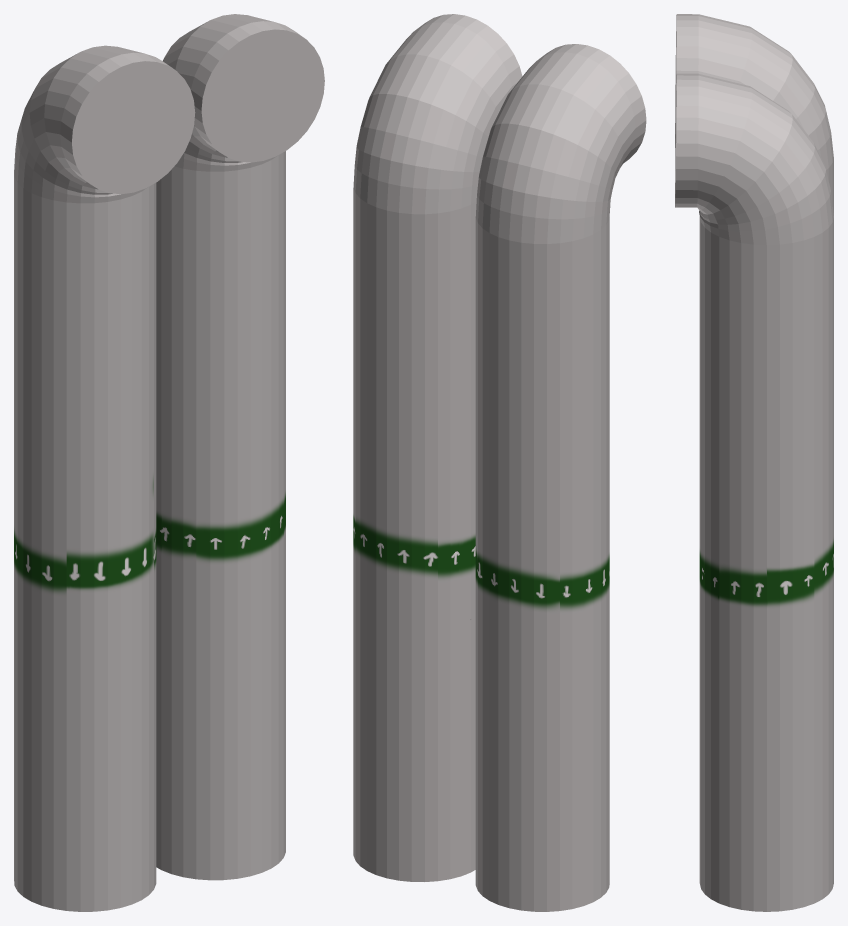
Rendered from pipe.obj.
The picture shows the model from 3 angles, left to right: view 1: azimuth 30°, elevation 25°; view 2: azimuth 150°, elevation 25°; view 3: azimuth 270°, elevation 25°; orthographic projection. The views are drawn at different scales.
Visible parts, largest first — view 1: Cylinder; view 2: Cylinder; view 3: Cylinder.
Boxes of the visible parts, <box> form: Cylinder: <box>14,14,324,911</box>; Cylinder: <box>353,14,646,911</box>; Cylinder: <box>675,14,833,911</box>.
Bounding box in the file's own units: 1.54 × 4.98 × 0.8919.
